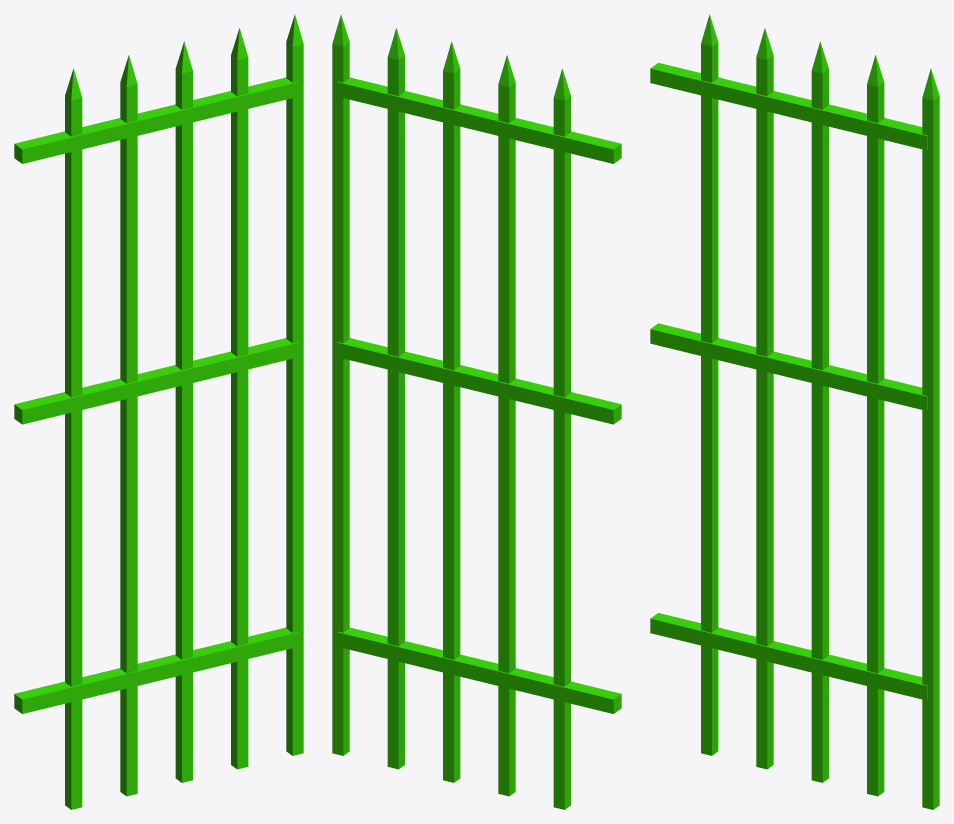
File: fence3_03.fbx
3 renders of one model, left to right at view 1: azimuth 30°, elevation 25°; view 2: azimuth 150°, elevation 25°; view 3: azimuth 330°, elevation 25°, orthographic.
Parts seen in each view (by area): view 1: fence3_03; view 2: fence3_03; view 3: fence3_03.
Boxes of the visible parts, x1=… form: fence3_03: x1=14, y1=14, x2=303, y2=809; fence3_03: x1=332, y1=14, x2=621, y2=809; fence3_03: x1=650, y1=14, x2=939, y2=809.
Bounding box in the file's own units: 102 × 255 × 5.
